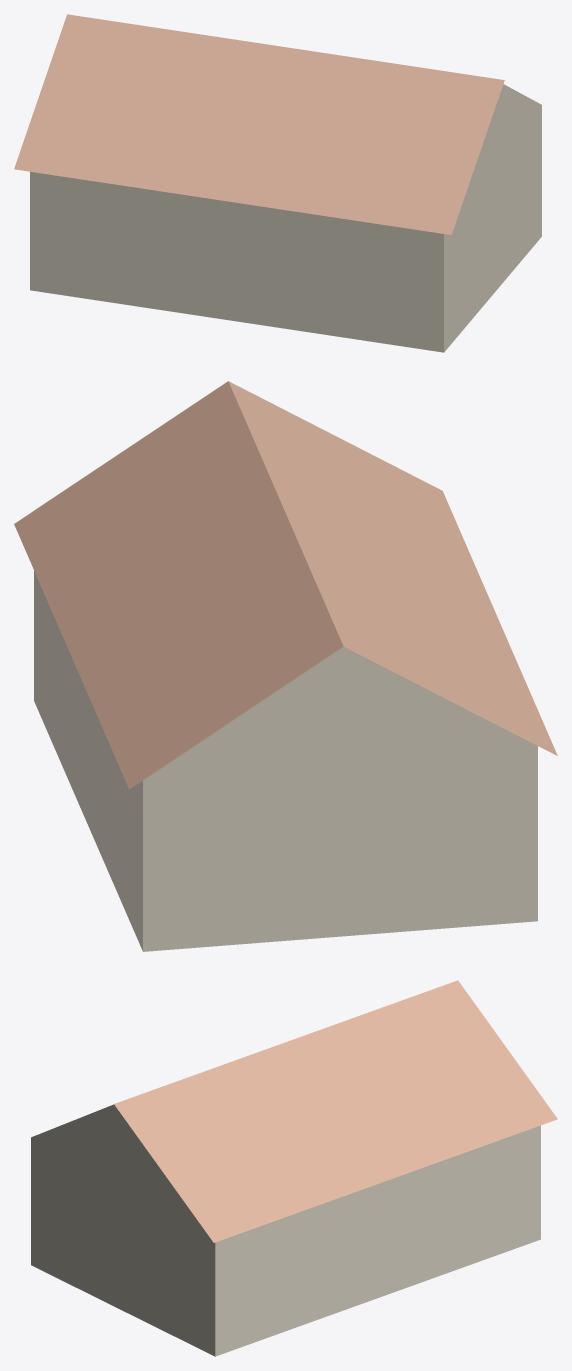
3 renders of one model, top to bottom at view 1: azimuth 30°, elevation 25°; view 2: azimuth 150°, elevation 25°; view 3: azimuth 270°, elevation 25°, orthographic. The views are drawn at different scales.
Parts seen in each view (by area): view 1: tuile; view 2: tuile; view 3: tuile.
Boxes of the visible parts, box(x1,y1,x2,y2) form: tuile: box(14, 14, 541, 352); tuile: box(14, 381, 557, 951); tuile: box(31, 980, 557, 1356).
Size of the model in its own units: 15.29 by 6.72 by 15.76.
